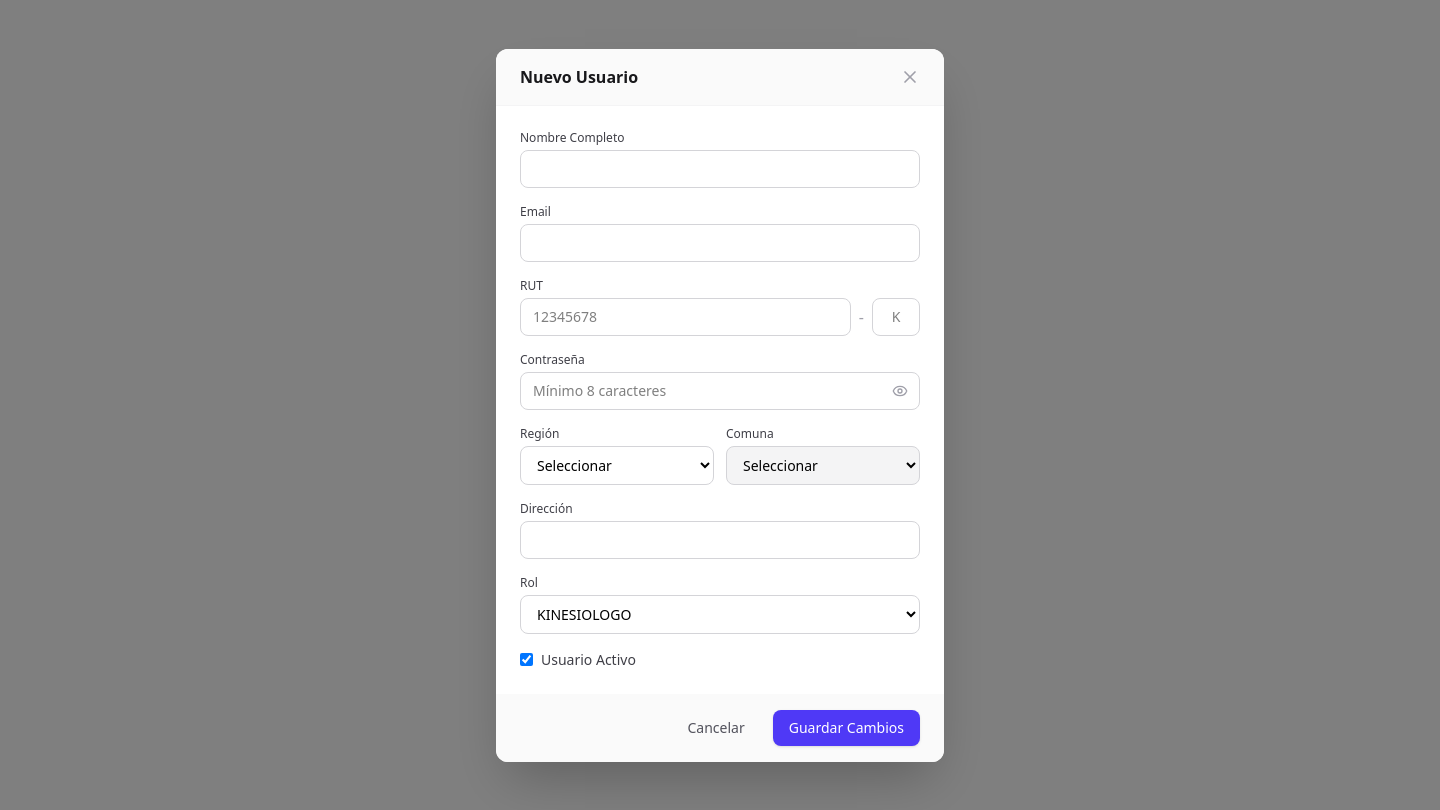
UserModal › handles server validation failure (non-exception)
This screenshot has width=1440, height=810.
Fill valid form
Type "User" into the field labelled "Nombre Completo" at (720, 168), box left=520, top=150, right=920, bottom=188
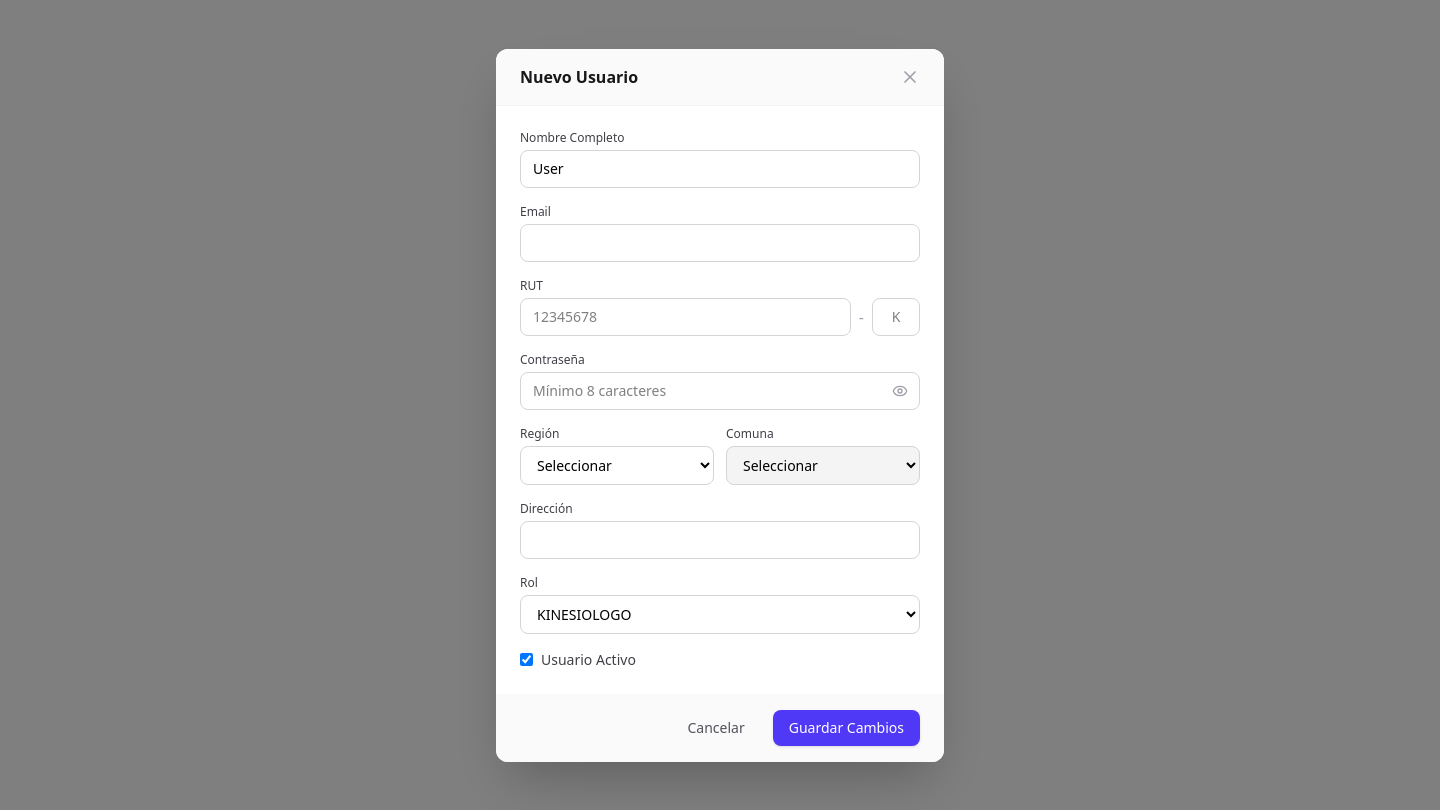
Type "test@test.com" into the field labelled "Email" at (720, 242), box left=520, top=224, right=920, bottom=262
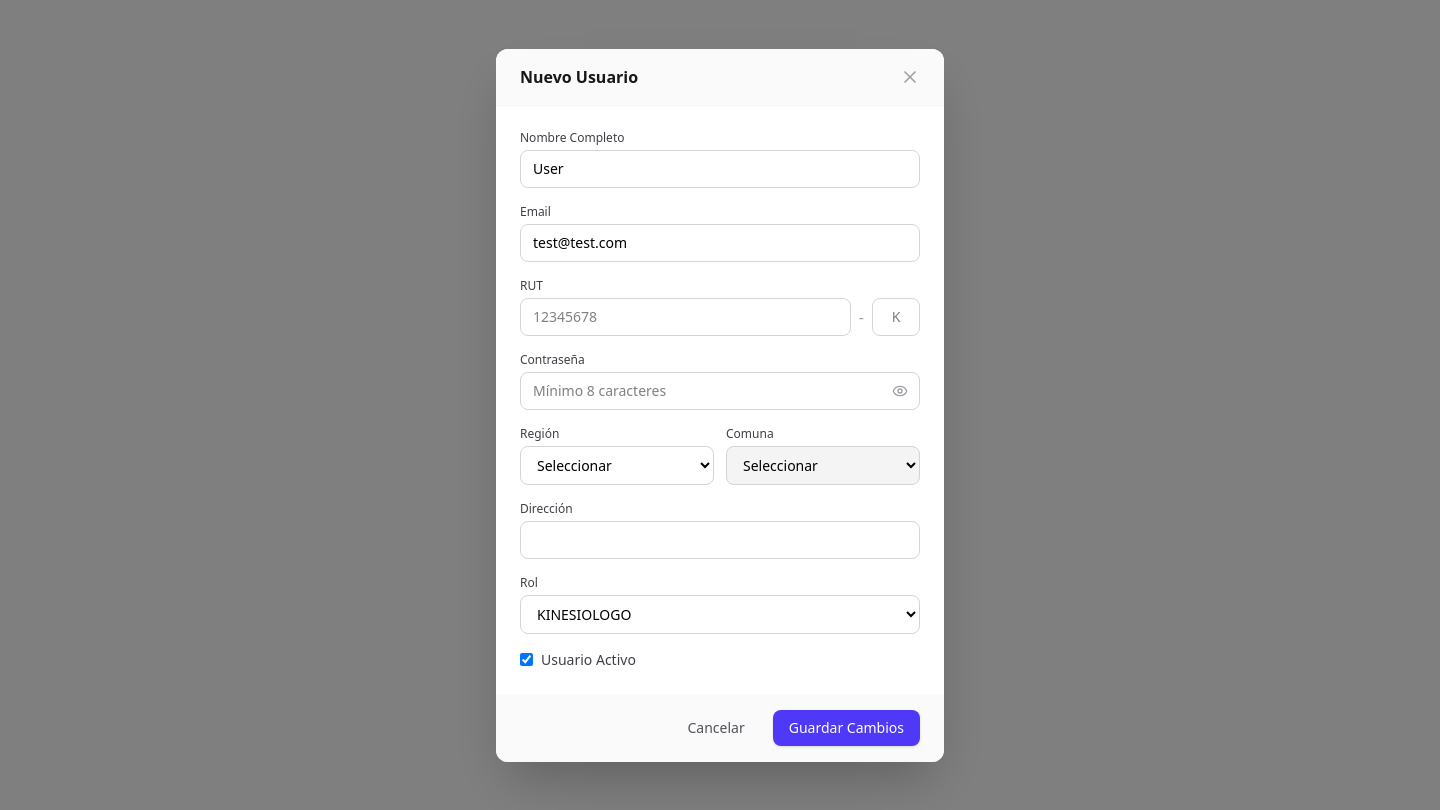
Type "11111111" into the field with placeholder "12345678" at (685, 316), box left=520, top=298, right=851, bottom=336
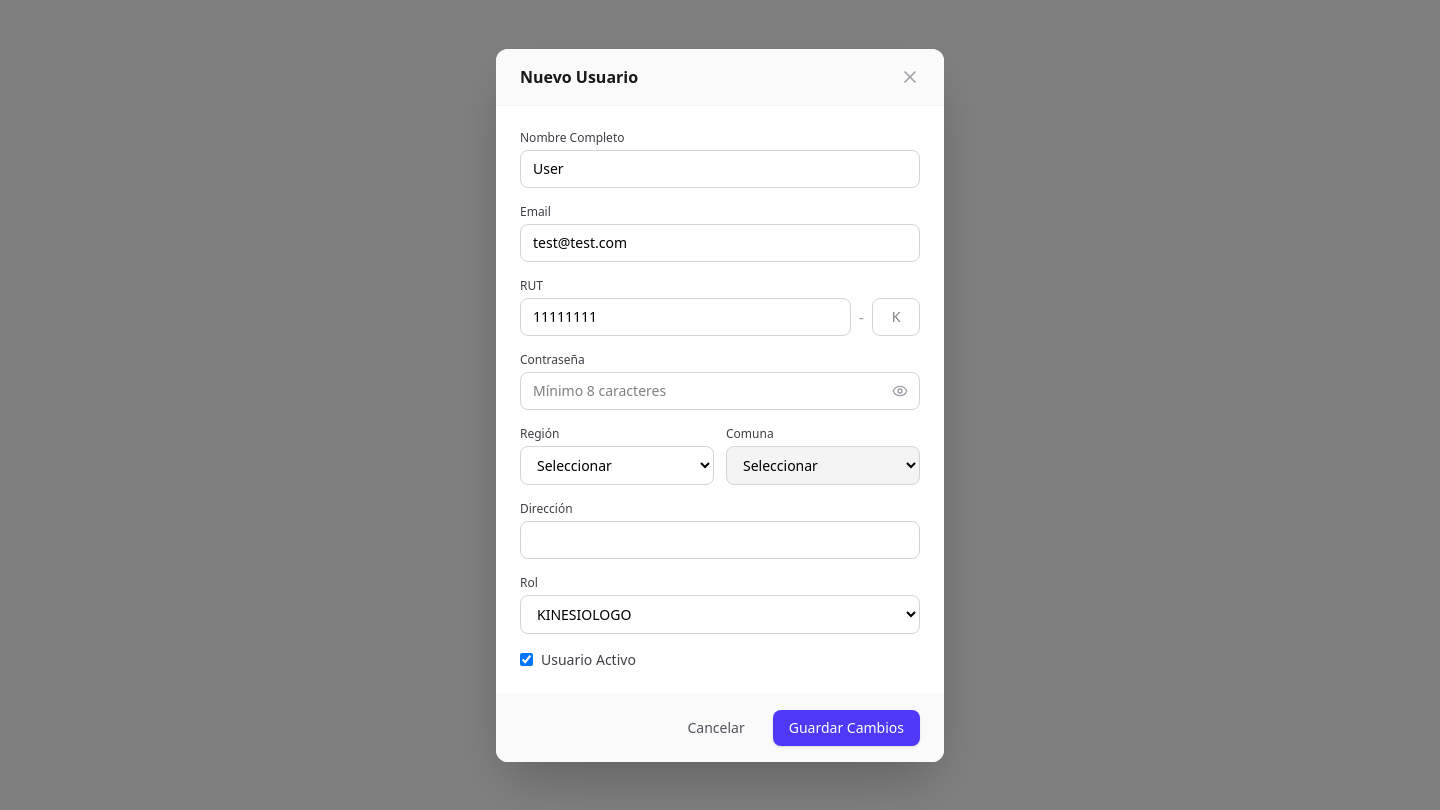
Type "1" into the field with placeholder "K" at (896, 316), box left=872, top=298, right=920, bottom=336
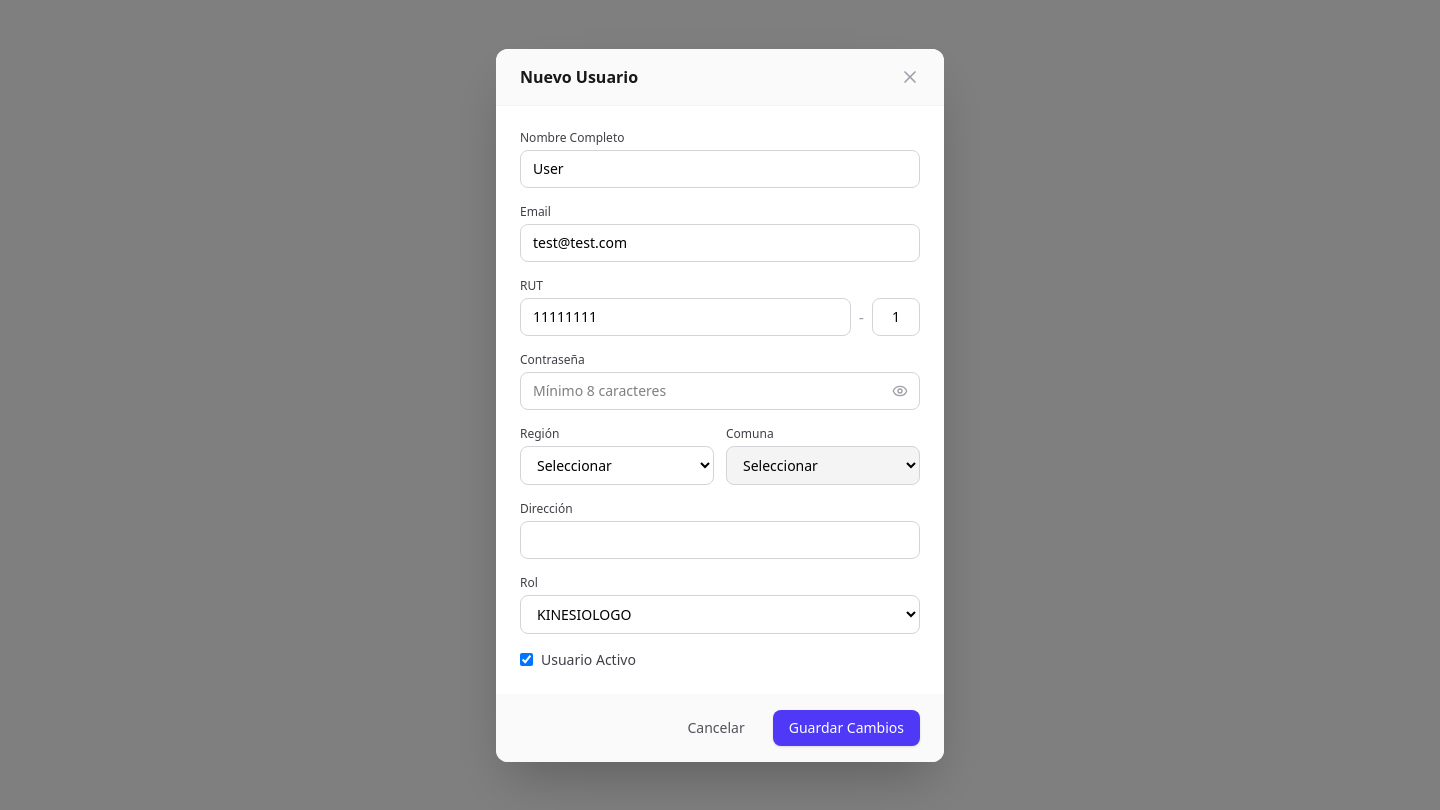
Type "Pass123!" into the password field labelled "Contraseña" at (720, 390), box left=520, top=372, right=920, bottom=410
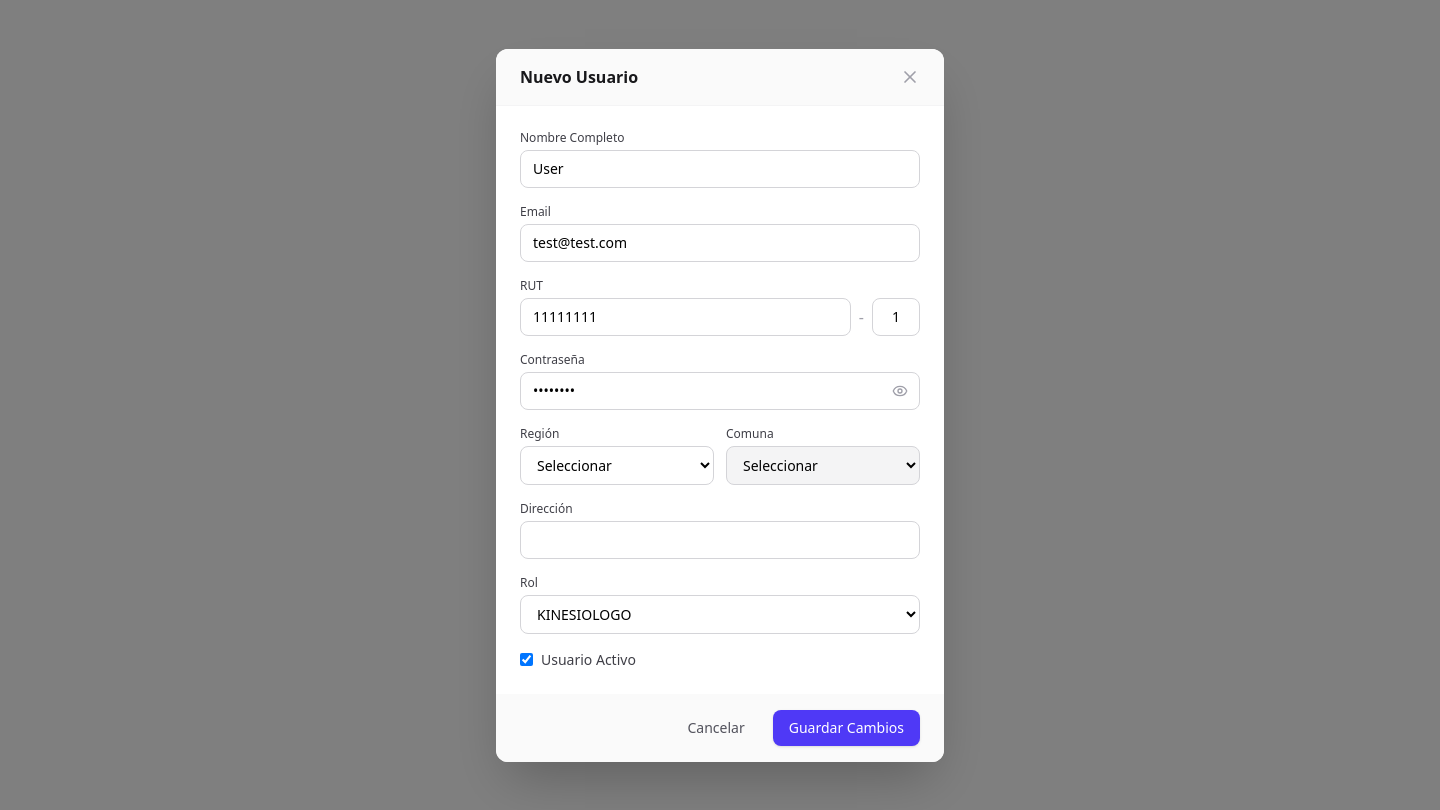
Click the button "Guardar Cambios" at (846, 728), box left=773, top=710, right=920, bottom=746
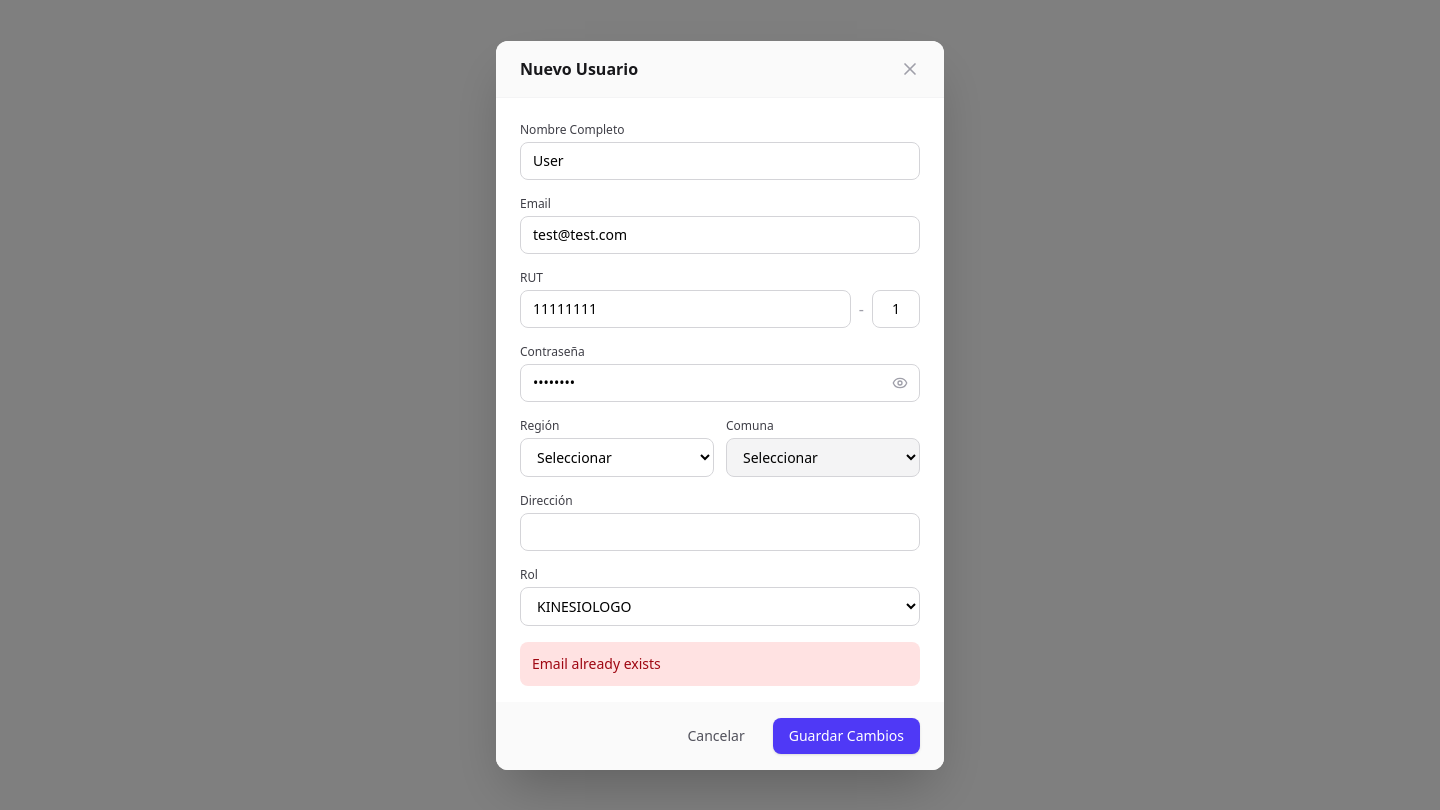
Result: the text "Email already exists" is shown at left=520, top=642, right=920, bottom=686
